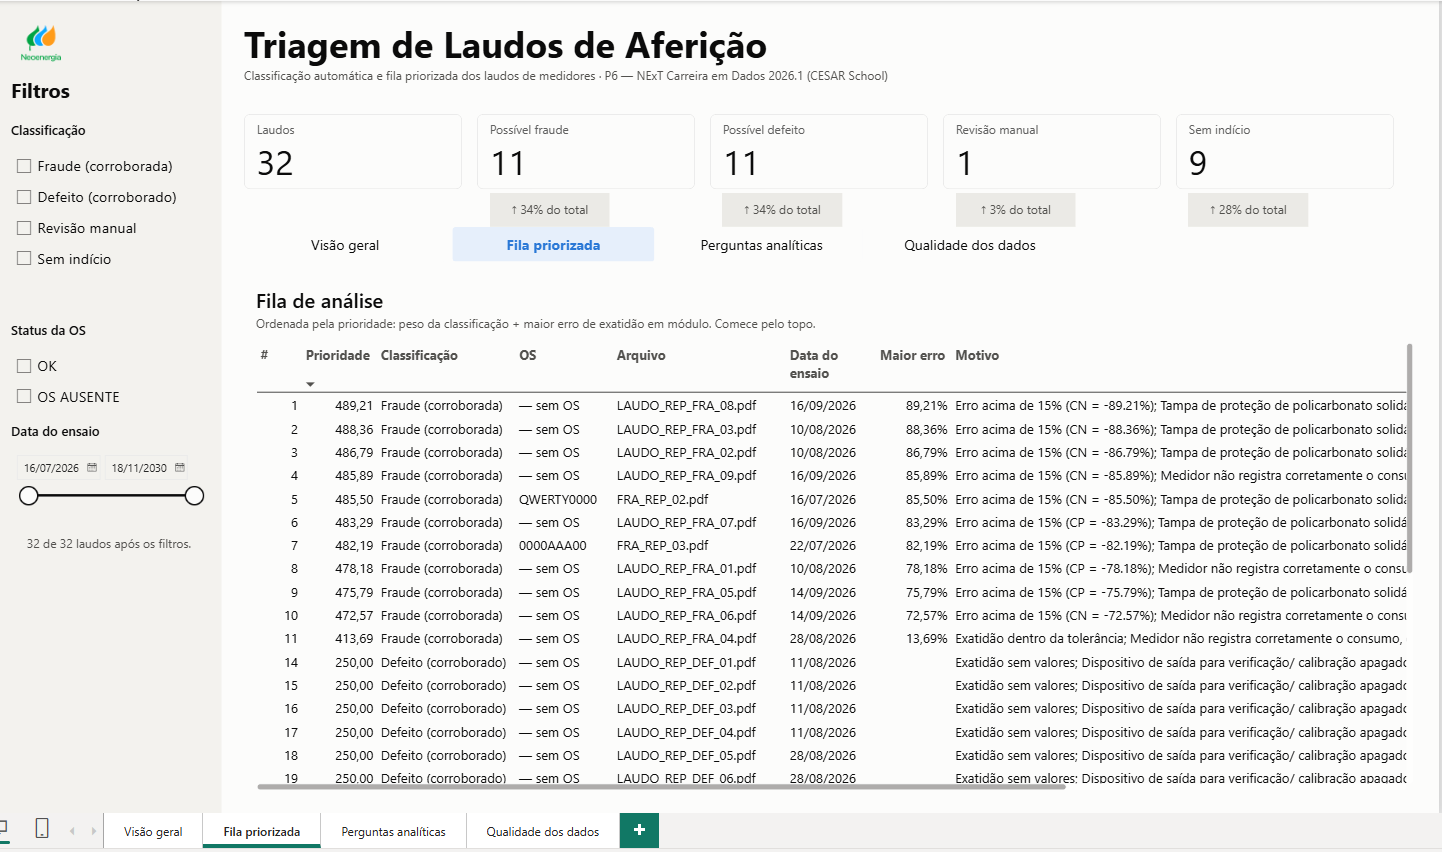

The page's visual inventory and layout, read from the dashboard file:
{"tool":"powerbi","page":{"name":"Fila priorizada","canvas":[1920,1080],"ordinal":1},"visuals":[{"type":"textbox","box":[0,0,300,1080],"z":0},{"type":"image","box":[24,20,72,72],"z":1000},{"type":"textbox","box":[20,100,260,50],"z":2000},{"type":"slicer","title":"Classificação","fields":{"Values":["public laudos.classificacao_curta"]},"box":[20,160,260,250],"z":3000},{"type":"slicer","title":"Status da OS","fields":{"Values":["public laudos.status_os"]},"box":[20,425,260,120],"z":4000},{"type":"slicer","title":"Data do ensaio","fields":{"Values":["public laudos.data_ensaio_dt"]},"box":[20,560,260,120],"z":5000},{"type":"card","fields":{"Values":["public laudos.Laudos filtrados"]},"box":[20,699.6,260.7,50.5],"z":6000},{"type":"textbox","box":[330,24,1570,120],"z":7000},{"type":"cardVisual","fields":{"Data":["public laudos.Total de laudos"]},"box":[330,150,290,100],"z":8000},{"type":"cardVisual","fields":{"Data":["public laudos.Laudos possível fraude"]},"box":[640,150,290,100],"z":9000},{"type":"card","fields":{"Values":["public laudos.Pill fraude"]},"box":[656.5,255.3,159,45.2],"z":10000},{"type":"cardVisual","fields":{"Data":["public laudos.Laudos possível defeito"]},"box":[950,150,290,100],"z":11000},{"type":"card","fields":{"Values":["public laudos.Pill defeito"]},"box":[965.8,255.3,160.5,45.2],"z":12000},{"type":"cardVisual","fields":{"Data":["public laudos.Laudos revisão manual"]},"box":[1260,150,290,100],"z":13000},{"type":"card","fields":{"Values":["public laudos.Pill revisão"]},"box":[1276.6,255.3,159,45.2],"z":14000},{"type":"cardVisual","fields":{"Data":["public laudos.Laudos sem indício"]},"box":[1570,150,290,100],"z":15000},{"type":"card","fields":{"Values":["public laudos.Pill sem indício"]},"box":[1585.9,255.3,160.5,45.2],"z":16000},{"type":"pageNavigator","box":[330,300,1100,46],"z":17000},{"type":"tableEx","title":"Fila de análise","fields":{"Values":["public laudos.Posição","public laudos.prioridade","public laudos.classificacao_curta","public laudos.os_exibicao","public laudos.arquivo","public laudos.data_ensaio","public laudos.maior_erro_abs","public laudos.motivo_classificacao"]},"box":[329.9,365.8,1570.8,699.6],"z":18000}]}

Visuals, with their boxes on the page's 1920x1080 design canvas (x1, y1, x2, y2). These are canvas units, not pixel positions in the 1442x852 screenshot, which may show the page scaled, cropped or inside an application window:
textbox: box(0, 0, 300, 1080)
image: box(24, 20, 96, 92)
textbox: box(20, 100, 280, 150)
"Classificação" slicer: box(20, 160, 280, 410)
"Status da OS" slicer: box(20, 425, 280, 545)
"Data do ensaio" slicer: box(20, 560, 280, 680)
card - public laudos.Laudos filtrados: box(20, 700, 281, 750)
textbox: box(330, 24, 1900, 144)
cardVisual - public laudos.Total de laudos: box(330, 150, 620, 250)
cardVisual - public laudos.Laudos possível fraude: box(640, 150, 930, 250)
card - public laudos.Pill fraude: box(656, 255, 816, 300)
cardVisual - public laudos.Laudos possível defeito: box(950, 150, 1240, 250)
card - public laudos.Pill defeito: box(966, 255, 1126, 300)
cardVisual - public laudos.Laudos revisão manual: box(1260, 150, 1550, 250)
card - public laudos.Pill revisão: box(1277, 255, 1436, 300)
cardVisual - public laudos.Laudos sem indício: box(1570, 150, 1860, 250)
card - public laudos.Pill sem indício: box(1586, 255, 1746, 300)
pageNavigator: box(330, 300, 1430, 346)
"Fila de análise" tableEx: box(330, 366, 1901, 1065)
